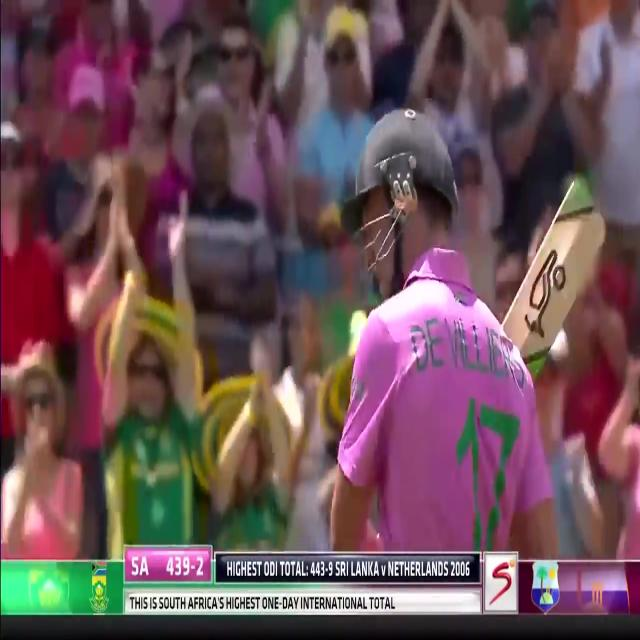Ball: (328, 113, 560, 554)
